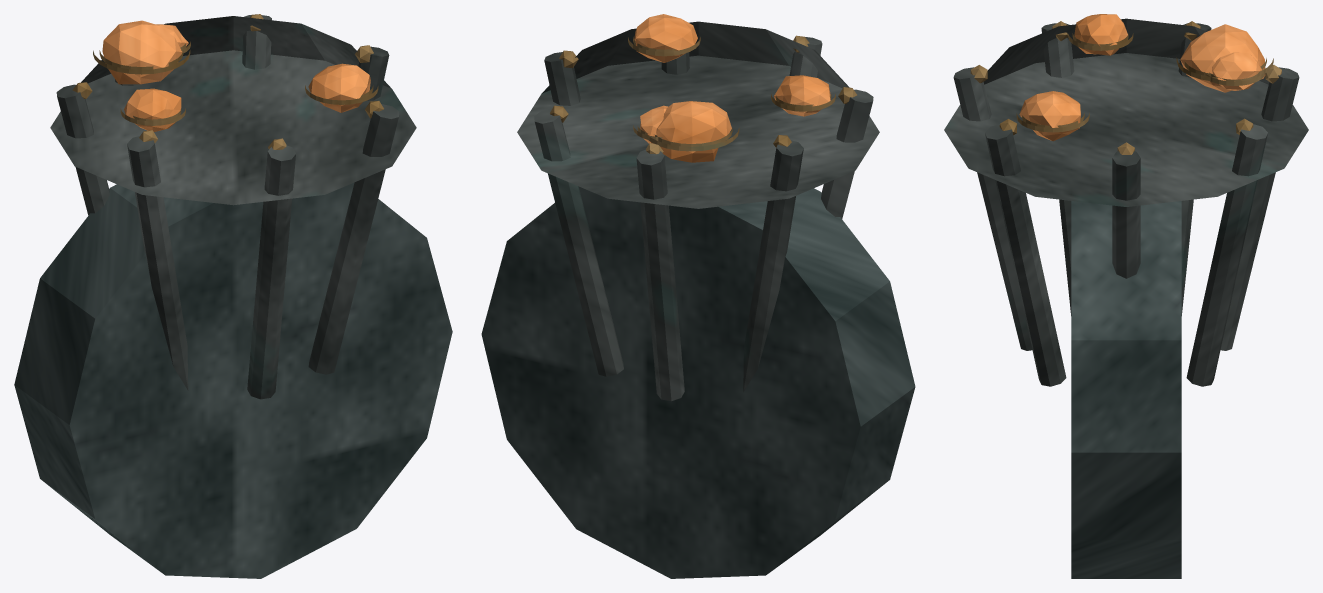
Rendered from 0545_brazier_20.glb.
3 renders of one model, left to right at view 1: azimuth 30°, elevation 25°; view 2: azimuth 150°, elevation 25°; view 3: azimuth 270°, elevation 25°, orthographic.
Parts seen in each view (by area): view 1: stone_dark, iron, amber, brass; view 2: stone_dark, iron, amber, brass; view 3: iron, stone_dark, amber, brass.
Boxes of the visible parts, x1,y1,x2,y2 form: stone_dark: (14, 182, 452, 578); iron: (50, 15, 416, 399); amber: (102, 20, 370, 131); brass: (72, 14, 383, 149); stone_dark: (481, 186, 915, 578); iron: (517, 21, 879, 401); amber: (634, 14, 830, 162); brass: (550, 35, 856, 154); iron: (944, 18, 1308, 386); stone_dark: (1071, 201, 1181, 578); amber: (1019, 14, 1265, 141); brass: (970, 21, 1281, 154).
Bounding box in the file's own units: 1.4 × 1.78 × 1.16.
Materials: 4 (4 with a texture image).
